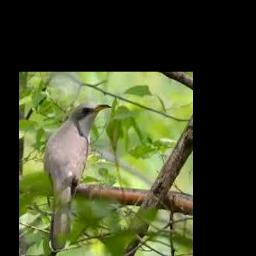Cuckoo: (44, 102, 111, 250)
